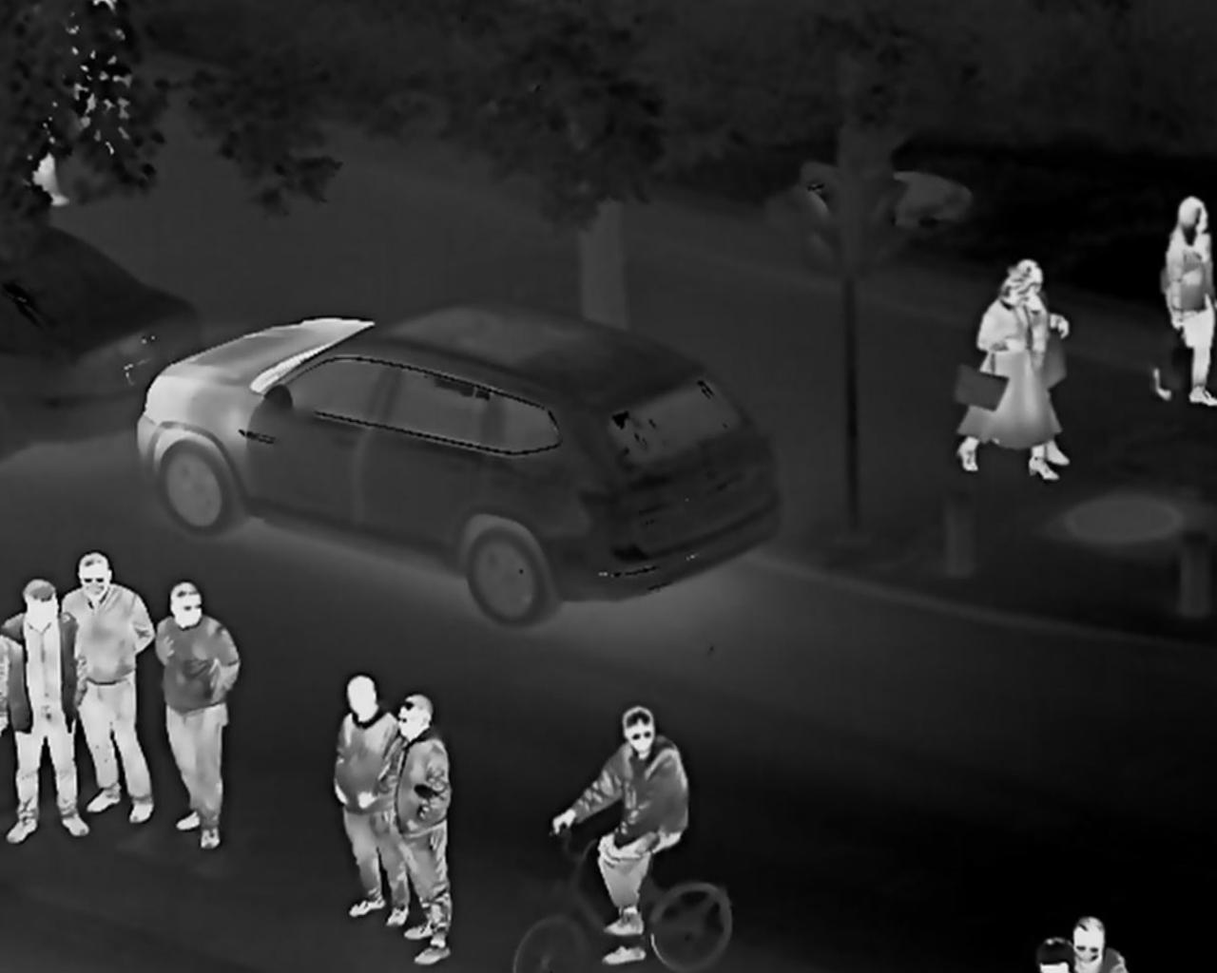person: (944, 232, 1046, 506), (155, 537, 236, 860), (389, 676, 472, 973), (583, 692, 654, 960), (84, 544, 141, 834), (21, 583, 83, 831), (346, 652, 393, 916), (1158, 183, 1217, 352), (1023, 897, 1137, 973)
